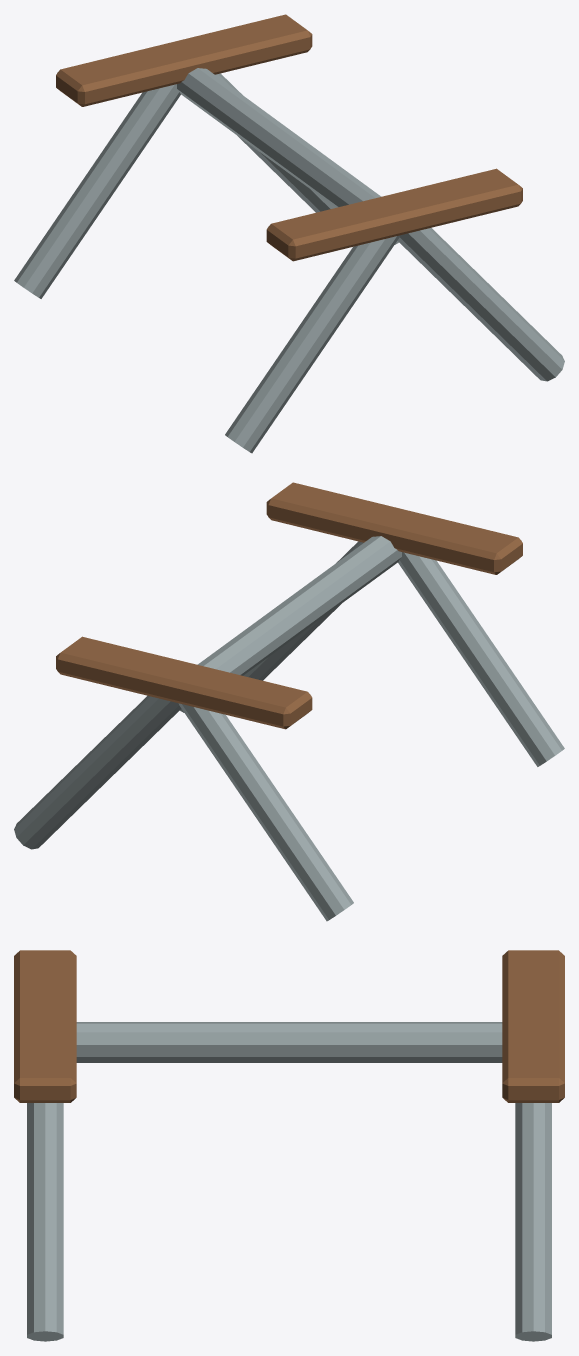
The model's file is Boat_Stand_A.glb.
The picture shows the model from 3 angles, top to bottom: view 1: azimuth 30°, elevation 25°; view 2: azimuth 150°, elevation 25°; view 3: azimuth 270°, elevation 25°; orthographic projection. The views are drawn at different scales.
Parts seen in each view (by area): view 1: Boat_Stand_A; view 2: Boat_Stand_A; view 3: Boat_Stand_A.
Part boxes in pixels (x1,y1,x2,y2): Boat_Stand_A: (14, 14, 564, 453); Boat_Stand_A: (14, 482, 564, 921); Boat_Stand_A: (14, 950, 564, 1341).
Size of the model in its own units: 1.28 by 0.7758 by 1.58.
